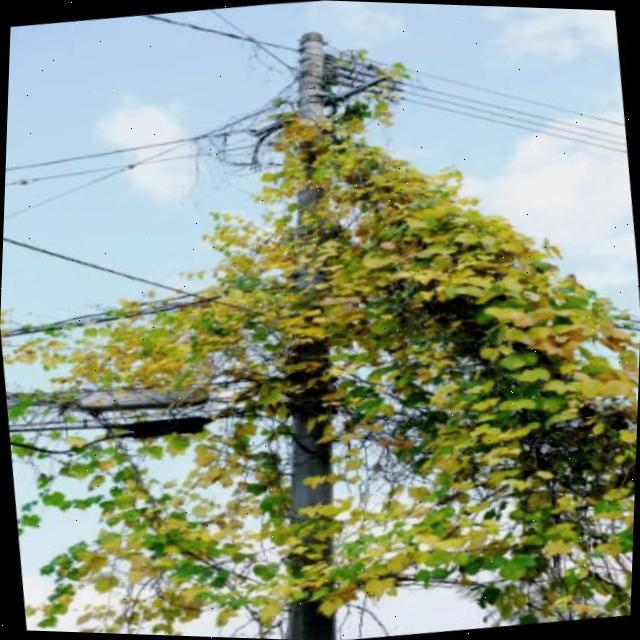critical vegetation: (156, 14, 482, 615)
